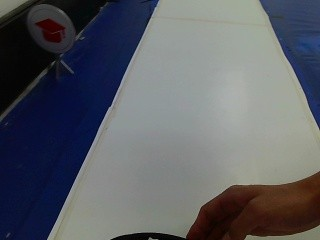school: (24, 4, 75, 58)
